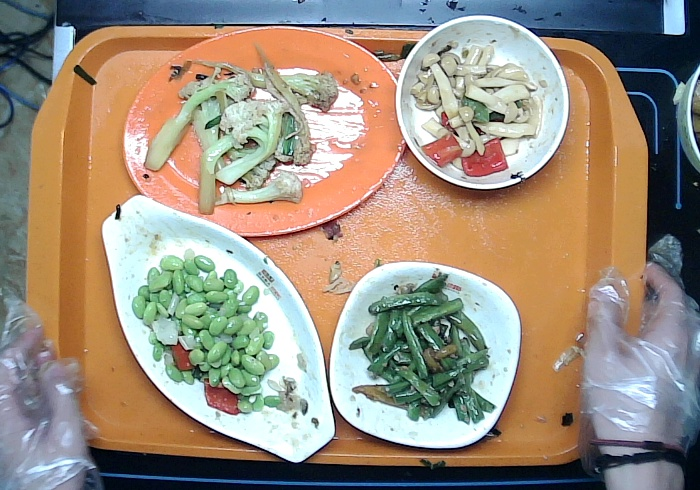NLDX-Bai_Se_Xiao_Fang_Die: (330, 261, 522, 448)
NLDX-Fan_Wan: (397, 16, 568, 192)
NLDX-Ju_Se_Pan: (123, 27, 410, 239)
NLDX-Yu_Pan: (101, 195, 337, 463)
